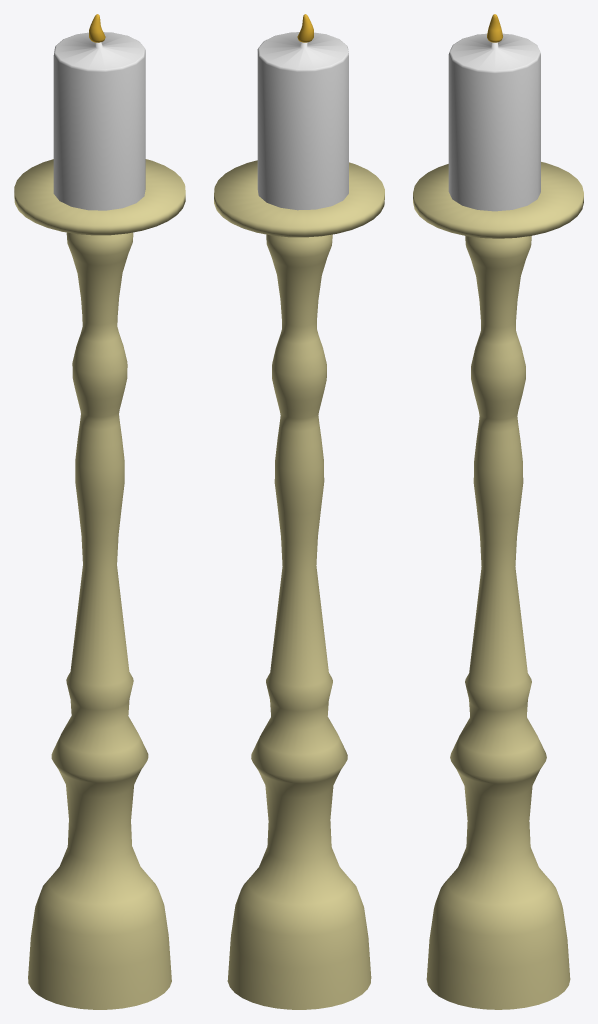
The model's file is CandleLightAsset.fbx.
3 renders of one model, left to right at view 1: azimuth 30°, elevation 25°; view 2: azimuth 150°, elevation 25°; view 3: azimuth 270°, elevation 25°, orthographic.
Parts seen in each view (by area): view 1: Wardrobe.006, Cylinder.058; view 2: Wardrobe.006, Cylinder.058; view 3: Wardrobe.006, Cylinder.058.
Boxes of the visible parts, x1,y1,x2,y2 form: Wardrobe.006: (14,159,185,1009); Cylinder.058: (53,14,145,210); Wardrobe.006: (214,160,384,1009); Cylinder.058: (257,14,348,210); Wardrobe.006: (413,162,583,1009); Cylinder.058: (448,14,540,211).
Size of the model in its own units: 26.02 by 26.02 by 162.
